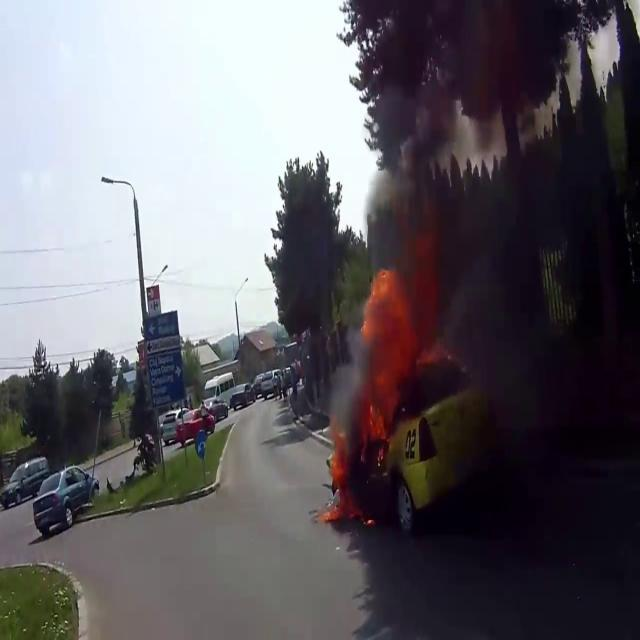Smoke: (342, 41, 566, 441)
